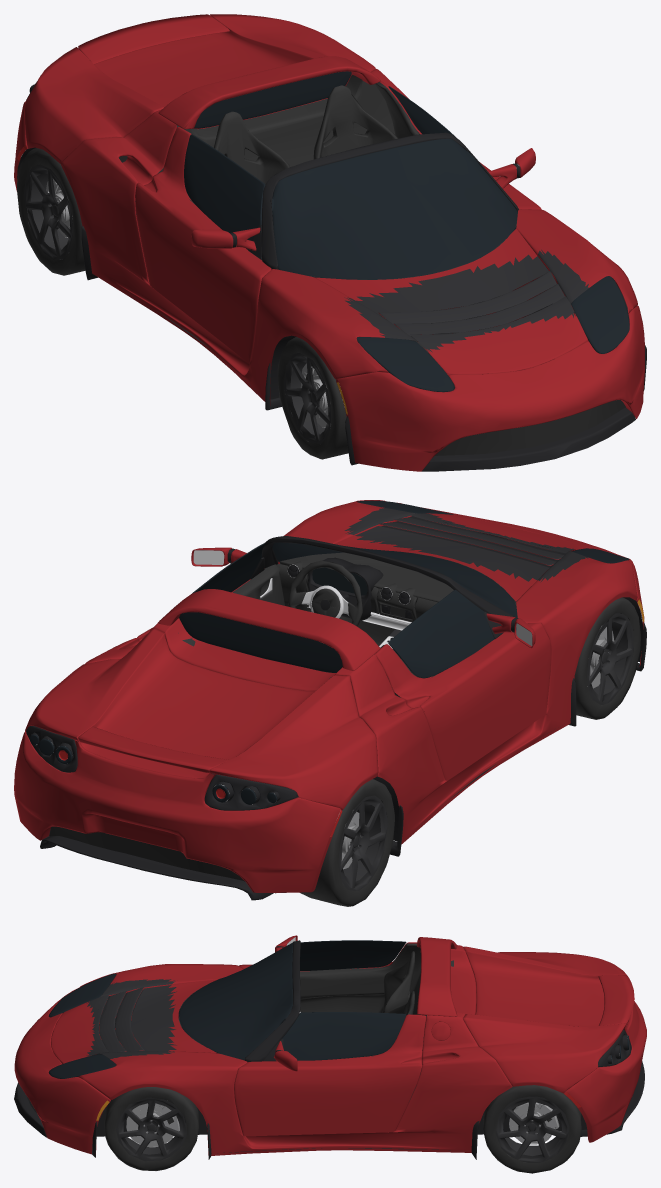
Rendered from roadster-first-generation-car.glb.
The picture shows the model from 3 angles, top to bottom: view 1: azimuth 30°, elevation 25°; view 2: azimuth 150°, elevation 25°; view 3: azimuth 270°, elevation 25°; orthographic projection. The views are drawn at different scales.
Visible parts, largest first — view 1: car; view 2: car; view 3: car.
Part boxes in pixels (x1=…): car: x1=14, y1=14, x2=646, y2=471; car: x1=14, y1=500, x2=646, y2=906; car: x1=14, y1=935, x2=646, y2=1173.
Size of the model in its own units: 1.85 by 1.07 by 3.94.
